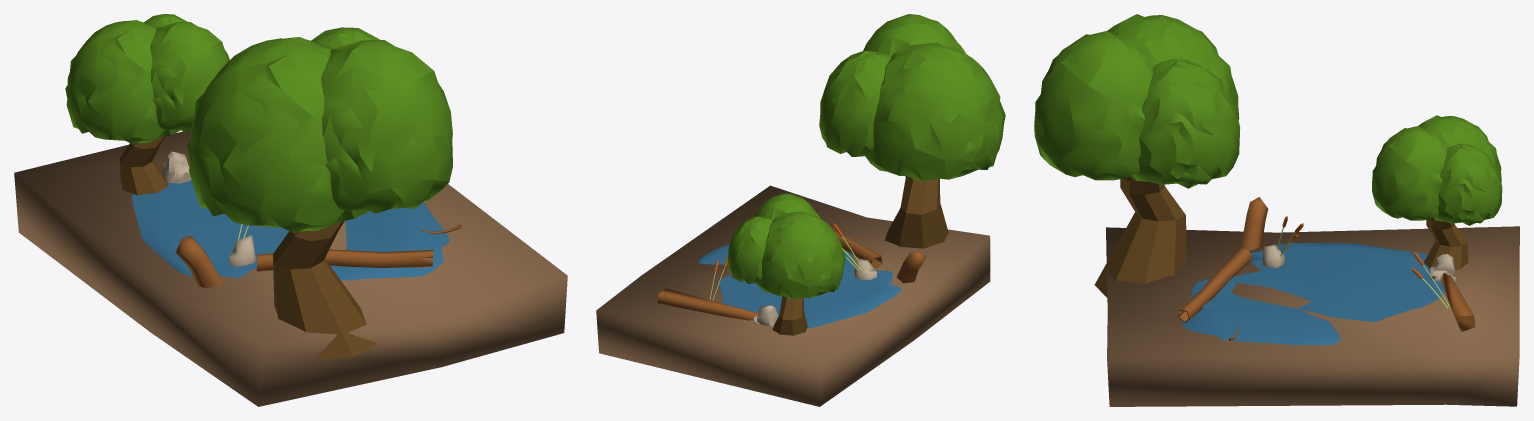
Rendered from scenenew.fbx.
The picture shows the model from 3 angles, left to right: view 1: azimuth 30°, elevation 25°; view 2: azimuth 150°, elevation 25°; view 3: azimuth 270°, elevation 25°; orthographic projection. The views are drawn at different scales.
Visible parts, largest first — view 1: Plane, Icosphere.003, Icosphere, Plane.001, Cylinder.011, Cylinder106, Cylinder, Cylinder105, Cube.001, Cube.004; view 2: Plane, Icosphere.003, Icosphere, Plane.001, Cylinder.011, Cylinder104, Cylinder, Cylinder106, Cylinder105, Cube.004, Cube.001; view 3: Plane, Icosphere.003, Plane.001, Icosphere, Cylinder.011, Cylinder106, Cylinder, Cylinder105, Cylinder104, Cube.001.
Part boxes in pixels (left/top/right/bottom): Plane: left=14, top=130, right=567, bottom=406; Icosphere.003: left=187, top=27, right=452, bottom=233; Icosphere: left=65, top=14, right=229, bottom=144; Plane.001: left=132, top=180, right=449, bottom=280; Cylinder.011: left=273, top=221, right=378, bottom=359; Cylinder106: left=256, top=249, right=433, bottom=271; Cylinder: left=119, top=136, right=168, bottom=195; Cylinder105: left=175, top=235, right=223, bottom=288; Cube.001: left=161, top=151, right=191, bottom=183; Cube.004: left=229, top=235, right=256, bottom=266; Plane: left=596, top=185, right=990, bottom=406; Icosphere.003: left=819, top=14, right=1005, bottom=181; Icosphere: left=727, top=193, right=845, bottom=299; Plane.001: left=698, top=243, right=901, bottom=328; Cylinder.011: left=884, top=176, right=948, bottom=248; Cylinder104: left=657, top=288, right=758, bottom=320; Cylinder: left=772, top=296, right=807, bottom=335; Cylinder106: left=834, top=231, right=882, bottom=268; Cylinder105: left=896, top=250, right=926, bottom=283; Cube.004: left=853, top=258, right=876, bottom=280; Cube.001: left=757, top=305, right=778, bottom=326; Plane: left=1106, top=226, right=1519, bottom=406; Icosphere.003: left=1034, top=14, right=1240, bottom=188; Plane.001: left=1181, top=243, right=1444, bottom=345; Icosphere: left=1372, top=115, right=1502, bottom=225; Cylinder.011: left=1094, top=177, right=1186, bottom=297; Cylinder106: left=1178, top=247, right=1252, bottom=322; Cylinder: left=1424, top=218, right=1468, bottom=269; Cylinder105: left=1241, top=197, right=1268, bottom=250; Cylinder104: left=1441, top=273, right=1475, bottom=331; Cube.001: left=1430, top=254, right=1454, bottom=281.
Size of the model in its own units: 1191 by 1239 by 1724.
